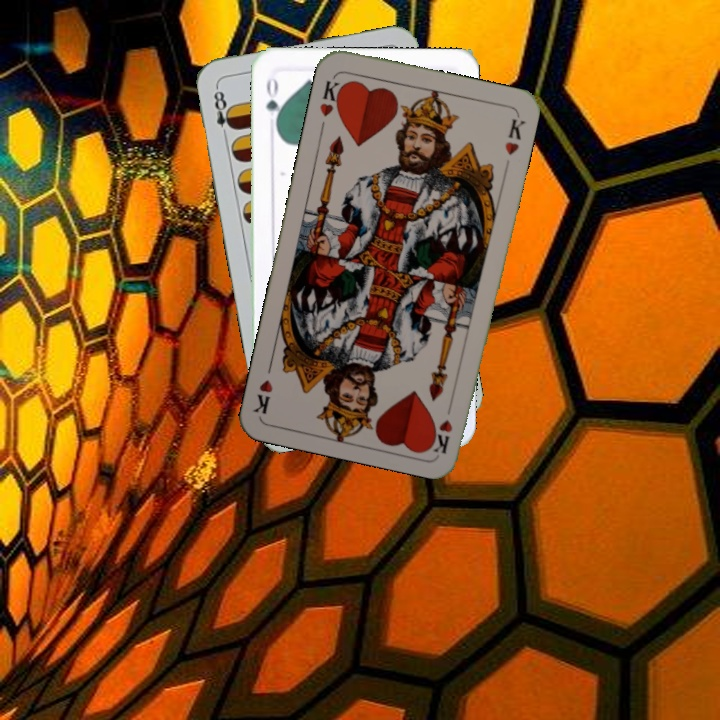E8: (209, 82, 237, 141)
GO: (261, 72, 284, 131)
HK: (429, 395, 456, 455), (315, 76, 347, 119)
